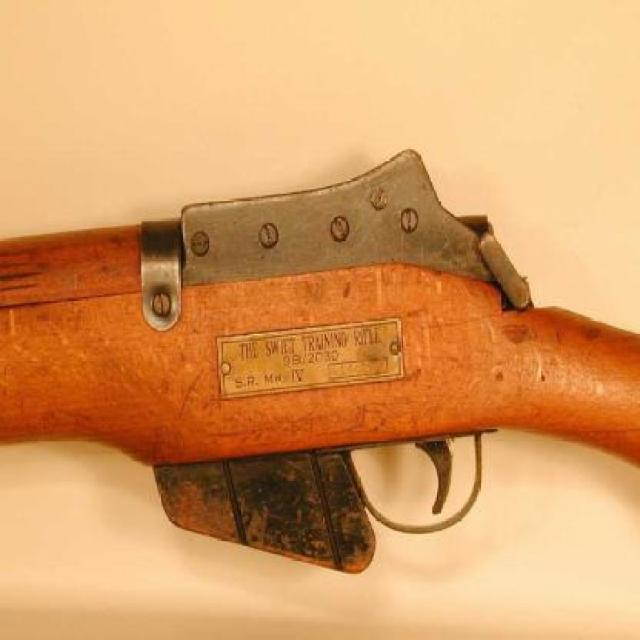heavy-weapon: (3, 174, 640, 549)
